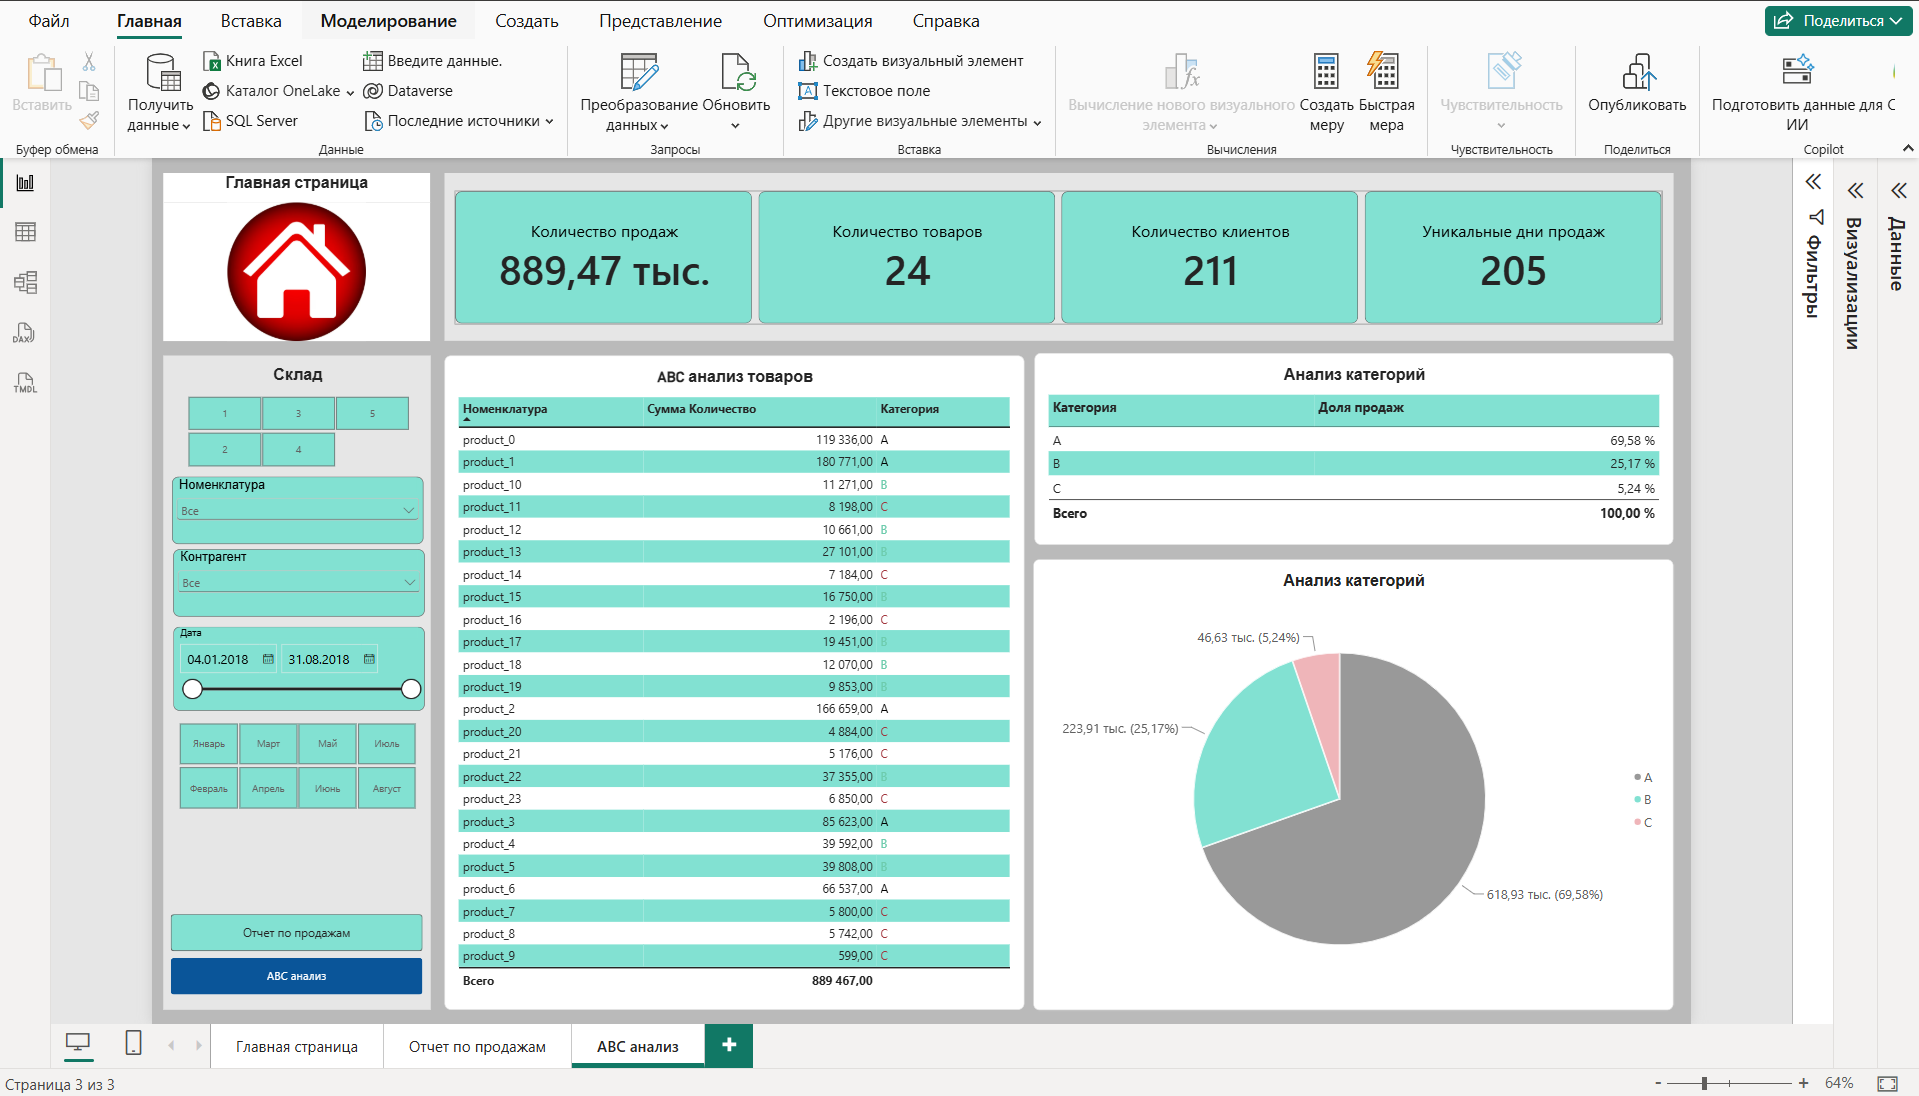

The page's visual inventory and layout, read from the dashboard file:
{"tool":"powerbi","page":{"name":"ABC анализ","canvas":[1920,1080],"ordinal":2},"visuals":[{"type":"shape","box":[364.5,19.2,1533.1,209.3],"z":0},{"type":"shape","box":[14,246.4,333.7,816],"z":1000},{"type":"cardVisual","fields":{"Data":["Sum(data.Количество)","Count(data.Номенклатура)","Count(data.Контрагент)","Count(data.Дата)"]},"box":[376.7,40.1,1508.7,167.4],"z":2000},{"type":"image","title":"Главная страница","box":[14,19.2,333.1,209.3],"z":3000},{"type":"slicer","fields":{"Values":["data.Номенклатура"]},"box":[24.4,397.7,314,83.7],"z":4000},{"type":"slicer","fields":{"Values":["data.Контрагент"]},"box":[26.2,488.4,314,83.7],"z":5000},{"type":"slicer","fields":{"Values":["data.Дата"]},"box":[26.2,584.3,314,104.7],"z":6000},{"type":"slicer","fields":{"Values":["data.Дата.Изменение.Иерархия дат.Месяц"]},"box":[14,702.4,333.7,110.1],"z":7000},{"type":"pageNavigator","box":[22.7,943.6,314.5,101.3],"z":8000},{"type":"slicer","title":"Склад","fields":{"Values":["data.Склад"]},"box":[24.4,258.1,314,127.3],"z":9000},{"type":"tableEx","title":"ABC анализ товаров","fields":{"Values":["ABC.Номенклатура","Sum(data.Количество)","ABC.Категория"]},"box":[365.2,246.4,723.4,816],"z":11000},{"type":"tableEx","title":"Анализ категорий","fields":{"Values":["ABC.Категория","ABC.Доля"]},"box":[1100.8,242.9,796.8,239.4],"z":12000},{"type":"pieChart","title":"Анализ категорий","fields":{"Category":["ABC.Категория"],"Y":["Sum(data.Количество)"]},"box":[1099.1,499.7,798.5,562.7],"z":12001}]}

Visuals, with their boxes on the page's 1920x1080 design canvas (x1, y1, x2, y2). These are canvas units, not pixel positions in the 1919x1096 screenshot, which may show the page scaled, cropped or inside an application window:
shape: (left=364, top=19, right=1898, bottom=228)
shape: (left=14, top=246, right=348, bottom=1062)
cardVisual - Sum(data.Количество) x Count(data.Номенклатура): (left=377, top=40, right=1885, bottom=208)
"Главная страница" image: (left=14, top=19, right=347, bottom=228)
slicer - data.Номенклатура: (left=24, top=398, right=338, bottom=481)
slicer - data.Контрагент: (left=26, top=488, right=340, bottom=572)
slicer - data.Дата: (left=26, top=584, right=340, bottom=689)
slicer - data.Дата.Изменение.Иерархия дат.Месяц: (left=14, top=702, right=348, bottom=812)
pageNavigator: (left=23, top=944, right=337, bottom=1045)
"Склад" slicer: (left=24, top=258, right=338, bottom=385)
"ABC анализ товаров" tableEx: (left=365, top=246, right=1089, bottom=1062)
"Анализ категорий" tableEx: (left=1101, top=243, right=1898, bottom=482)
"Анализ категорий" pieChart: (left=1099, top=500, right=1898, bottom=1062)
